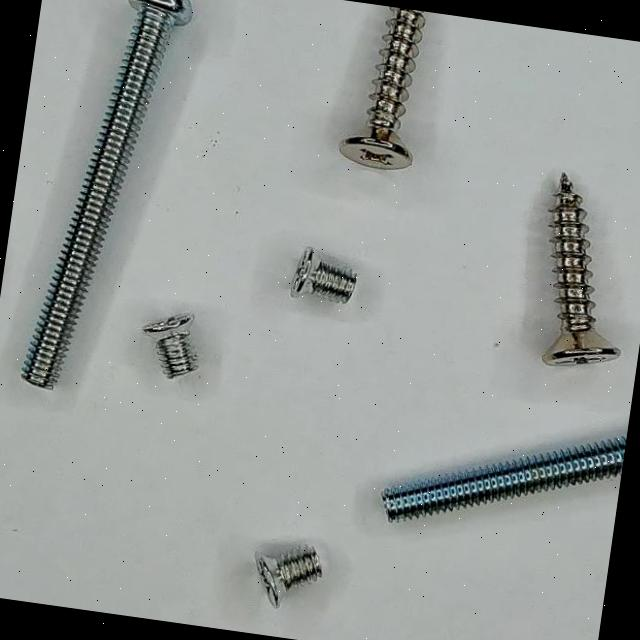Screw: (21, 0, 192, 389), (382, 438, 627, 523), (543, 173, 622, 366), (341, 7, 426, 170), (256, 546, 323, 609), (291, 247, 357, 304), (143, 315, 198, 379)
